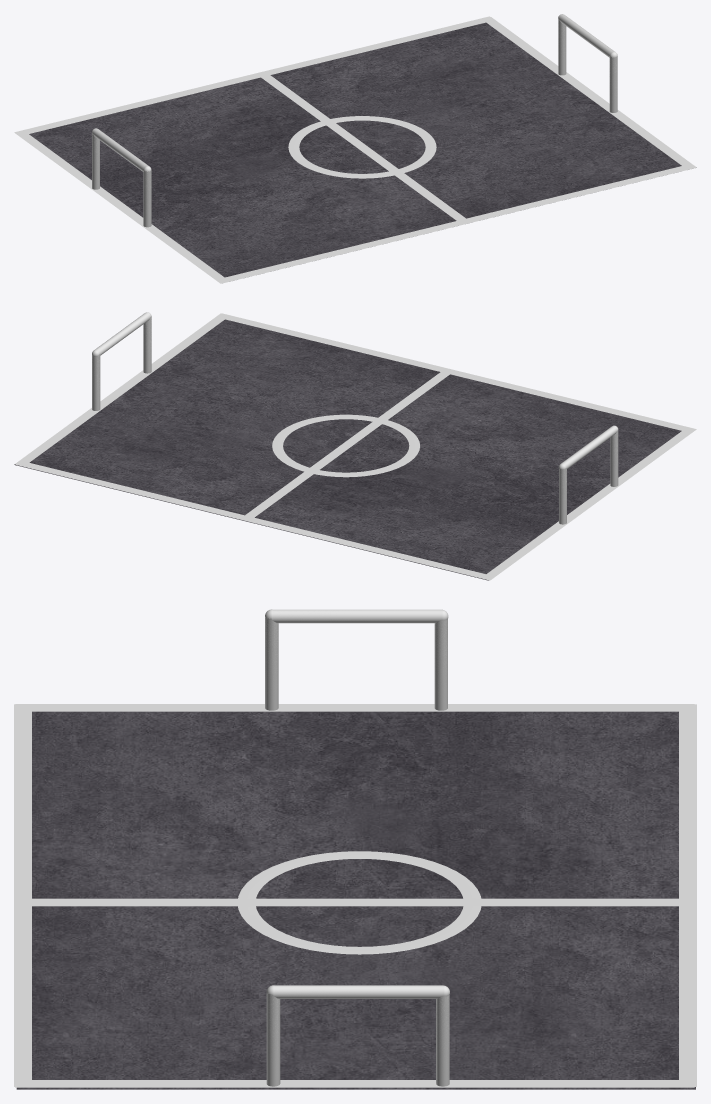
File: pitch.glb
3 views of the same model, one above another, from view 1: azimuth 30°, elevation 25°; view 2: azimuth 150°, elevation 25°; view 3: azimuth 270°, elevation 25° (orthographic). The views are drawn at different scales.
Parts seen in each view (by area): view 1: Plane, Plane.004, Plane.002, Torus.001, Plane.005, Plane.003, Plane.001, Cylinder.001, Cylinder.004, Cylinder, Cylinder.003, Cylinder.005 (+1 smaller); view 2: Plane, Plane.004, Plane.002, Torus.001, Plane.005, Plane.001, Plane.003, Cylinder.004, Cylinder.001, Cylinder.005, Cylinder.003, Cylinder (+1 smaller); view 3: Plane, Plane.002, Plane.004, Plane.005, Torus.001, Plane.001, Plane.003, Cylinder.001, Cylinder.004, Cylinder.003, Cylinder, Cylinder.005 (+1 smaller).
Boxes of the visible parts, box(x1,y1,x2,y2) form: Plane: box(29, 22, 696, 277); Plane.004: box(14, 16, 493, 136); Plane.002: box(216, 166, 695, 283); Torus.001: box(288, 116, 436, 178); Plane.005: box(257, 72, 469, 223); Plane.003: box(482, 17, 696, 169); Plane.001: box(15, 130, 229, 283); Cylinder.001: box(92, 128, 148, 171); Cylinder.004: box(559, 14, 614, 57); Cylinder: box(143, 170, 151, 227); Cylinder.003: box(609, 56, 617, 112); Cylinder.005: box(558, 18, 566, 75); Plane: box(14, 319, 681, 580); Plane.004: box(15, 460, 493, 580); Plane.002: box(217, 313, 696, 430); Torus.001: box(272, 414, 419, 477); Plane.005: box(240, 369, 452, 520); Plane.001: box(482, 427, 696, 579); Plane.003: box(15, 313, 228, 463); Cylinder.004: box(94, 312, 150, 355); Cylinder.001: box(561, 426, 617, 468); Cylinder.005: box(92, 354, 100, 410); Cylinder.003: box(143, 316, 151, 373); Cylinder: box(610, 430, 618, 486); Plane: box(16, 711, 695, 1089); Plane.002: box(14, 704, 31, 1086); Plane.004: box(679, 704, 696, 1086); Plane.005: box(32, 898, 695, 906); Torus.001: box(238, 851, 481, 954); Plane.001: box(15, 704, 694, 711); Plane.003: box(15, 1080, 694, 1087); Cylinder.001: box(272, 609, 441, 623); Cylinder.004: box(273, 985, 443, 998); Cylinder.003: box(266, 993, 280, 1086); Cylinder: box(265, 617, 278, 710); Cylinder.005: box(436, 995, 449, 1086).
Bounding box in the file's own units: 80.26 × 9.66 × 60.32.
3 materials, 1 textured.
